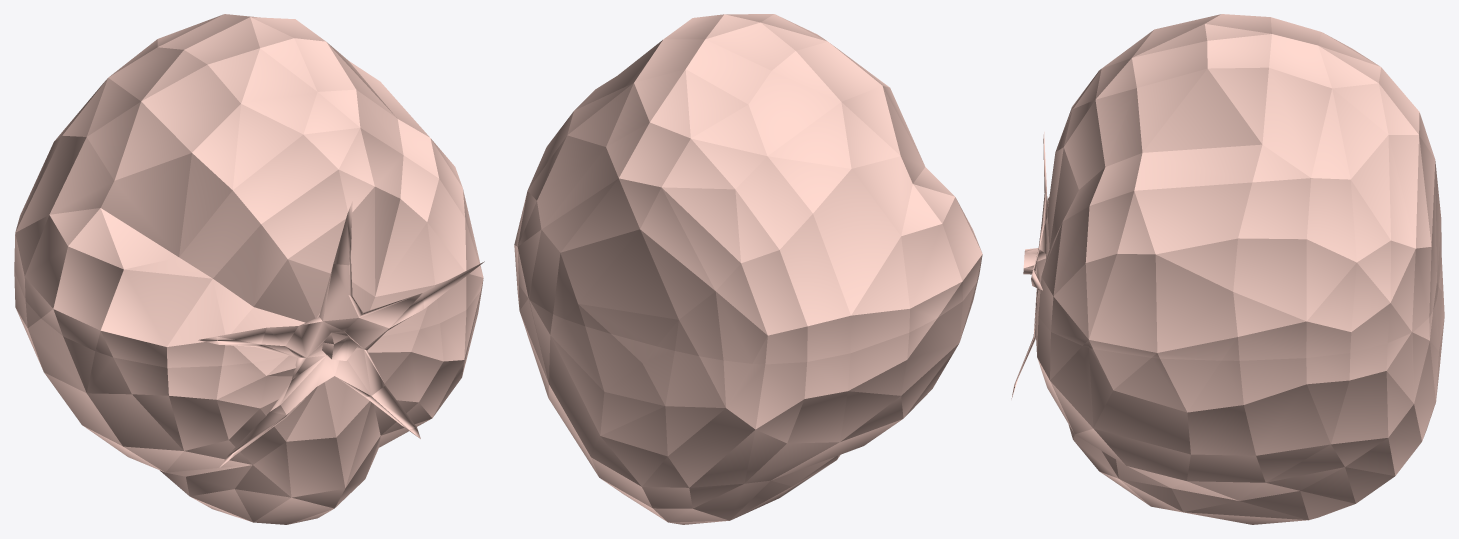
The model's file is MeshTomatoC5Mesh_0.obj.
3 views of the same model, side by side, from view 1: azimuth 30°, elevation 25°; view 2: azimuth 150°, elevation 25°; view 3: azimuth 270°, elevation 25° (orthographic). The views are drawn at different scales.
Parts seen in each view (by area): view 1: TomatoC5Mesh; view 2: TomatoC5Mesh; view 3: TomatoC5Mesh.
Part boxes in pixels (x1,y1,x2,y2): TomatoC5Mesh: (14,14,484,524); TomatoC5Mesh: (514,14,982,524); TomatoC5Mesh: (1011,14,1444,524).
Size of the model in its own units: 0.1122 by 0.1275 by 0.1029.
